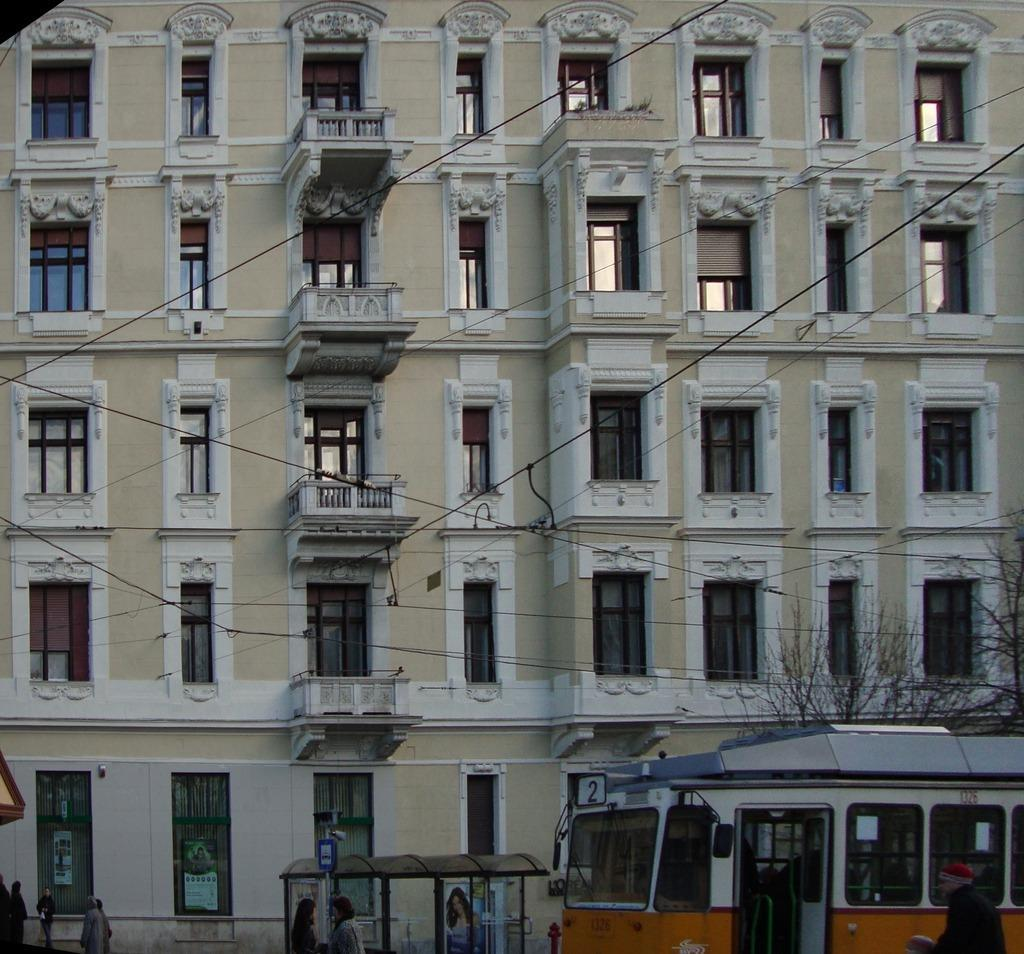window: (30, 582, 94, 682), (593, 572, 653, 674), (704, 582, 763, 684), (927, 581, 985, 682), (698, 222, 763, 312), (308, 583, 370, 677), (587, 196, 647, 292), (922, 224, 986, 314), (33, 46, 93, 139), (31, 222, 91, 312), (693, 56, 758, 138), (923, 409, 986, 492), (28, 409, 89, 494), (704, 406, 763, 493), (592, 392, 649, 480), (305, 406, 369, 483), (916, 62, 972, 144), (303, 218, 367, 287), (304, 52, 367, 111), (464, 582, 499, 683), (559, 52, 616, 114), (182, 584, 217, 684), (459, 217, 495, 310), (829, 580, 861, 680), (468, 776, 499, 878), (464, 407, 500, 493), (827, 225, 861, 313), (181, 405, 214, 495), (828, 408, 861, 493), (181, 220, 212, 308), (821, 59, 854, 140), (456, 51, 487, 136), (183, 55, 213, 137)
